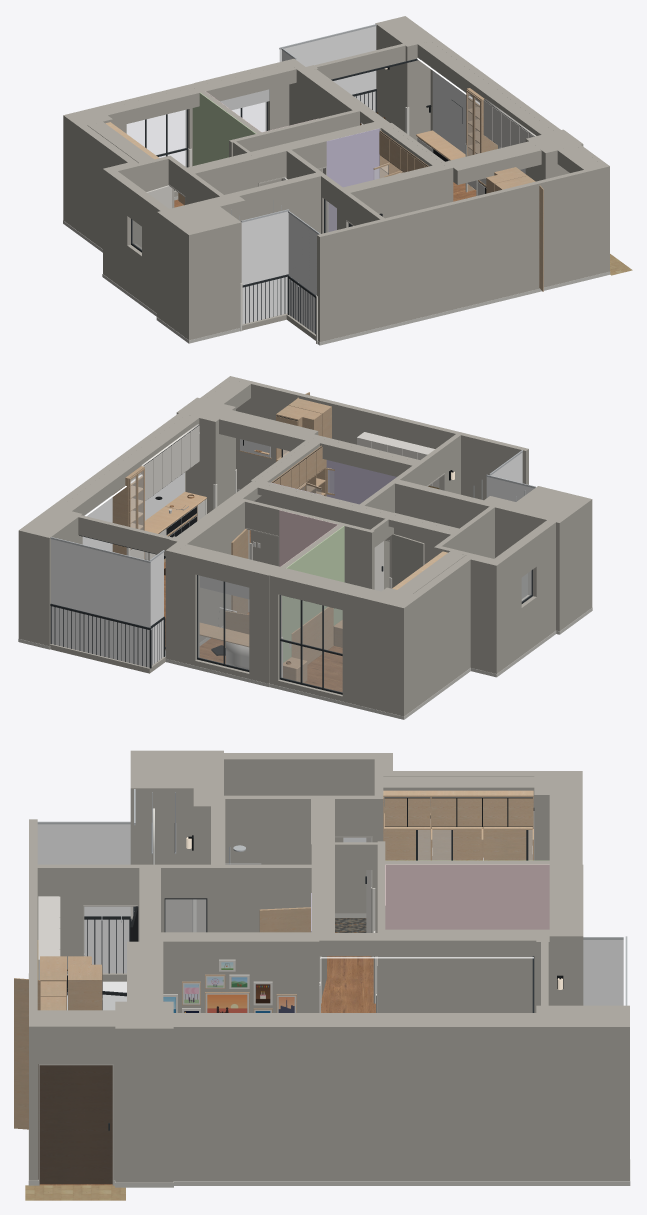
Rendered from house.glb.
The picture shows the model from 3 angles, top to bottom: view 1: azimuth 30°, elevation 25°; view 2: azimuth 150°, elevation 25°; view 3: azimuth 270°, elevation 25°; orthographic projection. The views are drawn at different scales.
Parts seen in each view (by area): view 1: Mesh_297, Mesh_7, Mesh_389, Mesh_299, Mesh_312, Mesh_360, Mesh_320, Mesh_334, Mesh_300, Mesh_298, Mesh_353, Mesh_321 (+4 smaller); view 2: Mesh_297, Mesh_7, Mesh_389, Mesh_299, Mesh_312, Mesh_321, Mesh_300, Mesh_320, Mesh_353, Mesh_298, Mesh_360, Mesh_294 (+9 smaller); view 3: Mesh_297, Mesh_7, Mesh_324, Mesh_302, Mesh_389, Mesh_21, Mesh_312, Mesh_294, Mesh_298, Mesh_259, Mesh_369, Mesh_353 (+10 smaller).
Boxes of the visible parts, <box> form: Mesh_297: <box>63,16,609,341</box>; Mesh_7: <box>87,41,602,190</box>; Mesh_389: <box>241,26,376,333</box>; Mesh_299: <box>127,102,336,249</box>; Mesh_312: <box>379,88,535,193</box>; Mesh_360: <box>326,128,379,231</box>; Mesh_320: <box>192,92,256,165</box>; Mesh_334: <box>432,68,525,173</box>; Mesh_300: <box>131,58,420,334</box>; Mesh_298: <box>63,196,610,345</box>; Mesh_353: <box>483,99,535,147</box>; Mesh_321: <box>178,130,465,205</box>; Mesh_297: <box>18,376,592,716</box>; Mesh_7: <box>59,379,465,596</box>; Mesh_389: <box>51,452,534,667</box>; Mesh_299: <box>198,570,531,692</box>; Mesh_312: <box>112,398,331,559</box>; Mesh_321: <box>145,450,342,682</box>; Mesh_300: <box>50,535,532,694</box>; Mesh_320: <box>282,526,344,662</box>; Mesh_353: <box>141,424,434,500</box>; Mesh_298: <box>18,489,592,719</box>; Mesh_360: <box>269,460,396,504</box>; Mesh_294: <box>164,530,342,691</box>; Mesh_297: <box>29,750,629,1182</box>; Mesh_7: <box>37,777,570,1023</box>; Mesh_324: <box>385,864,549,929</box>; Mesh_302: <box>383,790,533,860</box>; Mesh_389: <box>37,824,623,1005</box>; Mesh_21: <box>38,1064,112,1184</box>; Mesh_312: <box>40,956,296,1012</box>; Mesh_294: <box>39,956,375,1185</box>; Mesh_298: <box>28,913,630,1187</box>; Mesh_259: <box>14,978,40,1129</box>; Mesh_369: <box>163,962,294,1012</box>; Mesh_353: <box>38,896,272,1012</box>.
Size of the model in its own units: 10.89 by 2.75 by 9.69.
46 materials, 12 textured.
